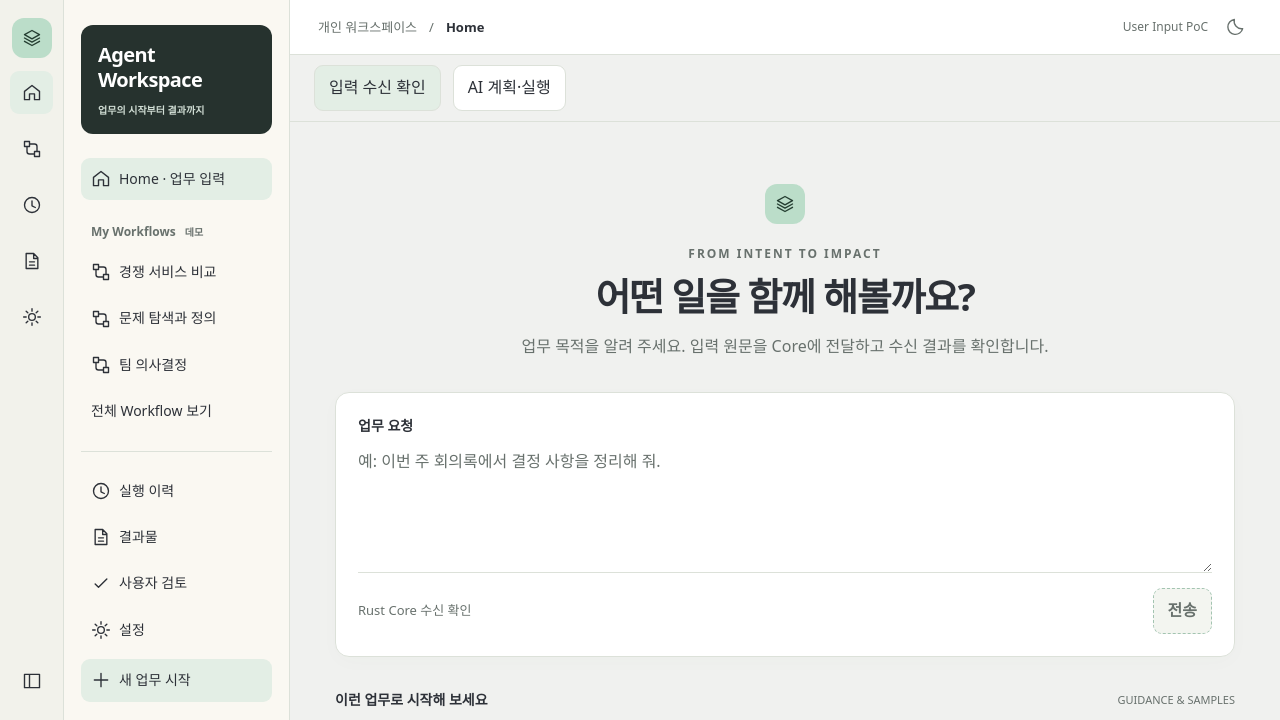
Test: Workspace › UI-015 테마 전환 후에도 원래 입력을 제출
This screenshot has width=1280, height=720.
Step 1. Type " A!" into the text box → [785, 505], box left=358, top=437, right=1212, bottom=572
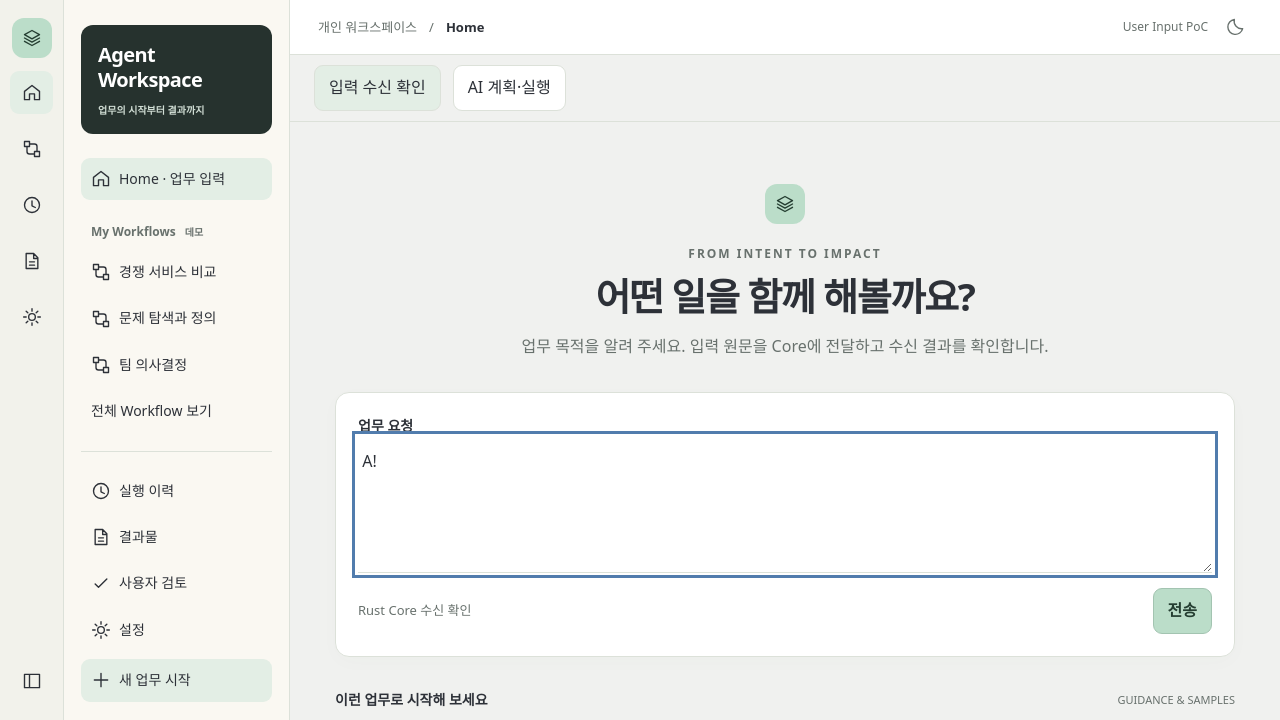
Step 2. Click the button named "현재 라이트 모드 · 다크 모드로 전환" → [1236, 27], box left=1220, top=11, right=1252, bottom=43
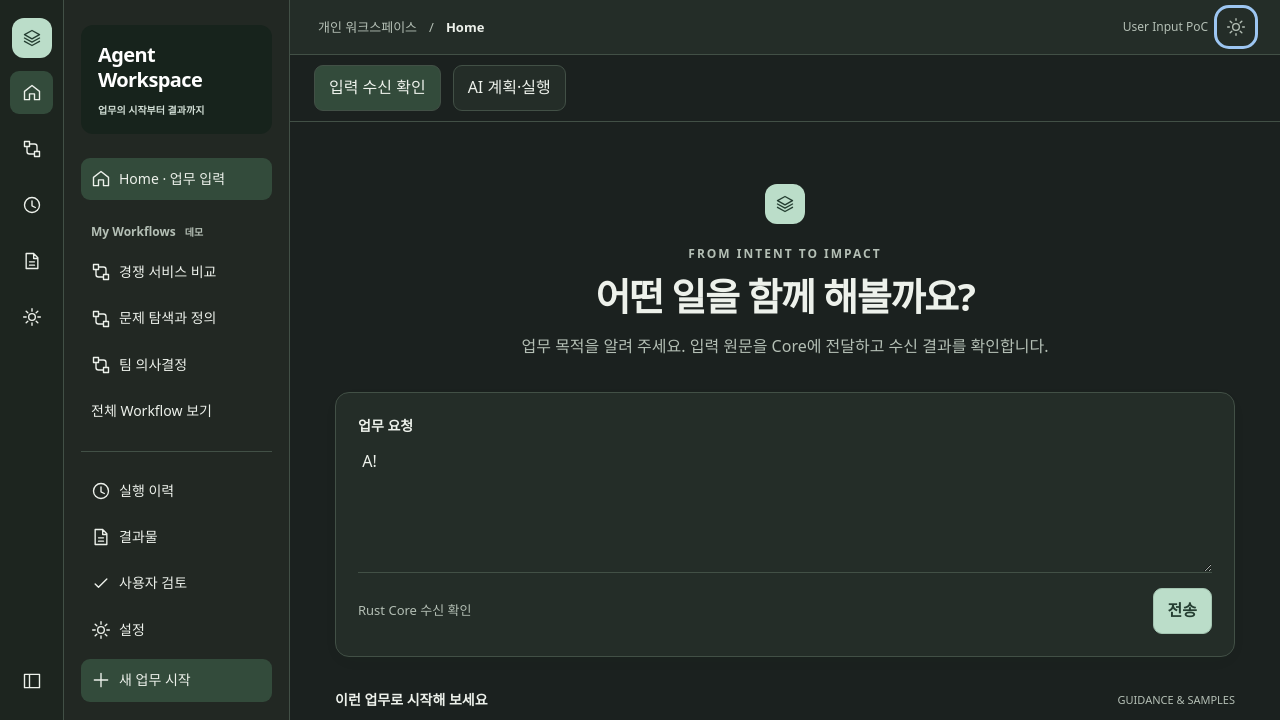
Step 3. Click the button "전송" → [1182, 611], box left=1152, top=588, right=1212, bottom=634
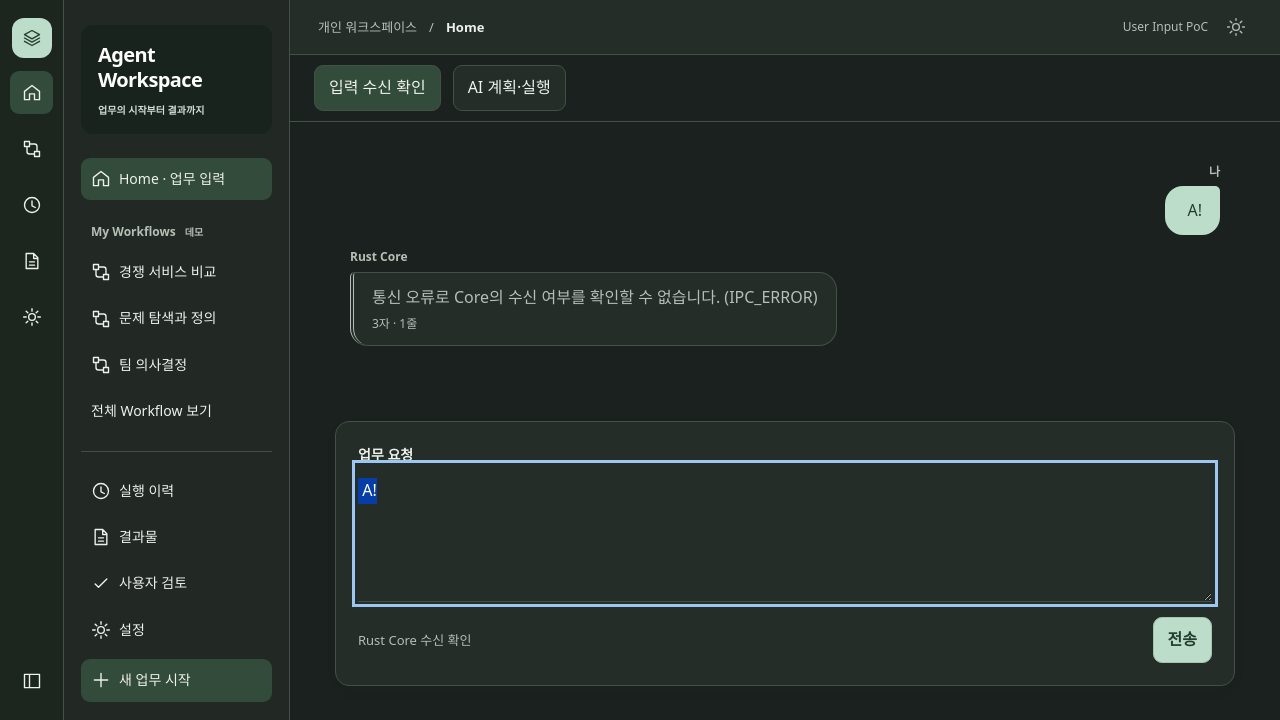
Expected: the message shows "3자 · 1줄", left=372, top=315, right=417, bottom=332
